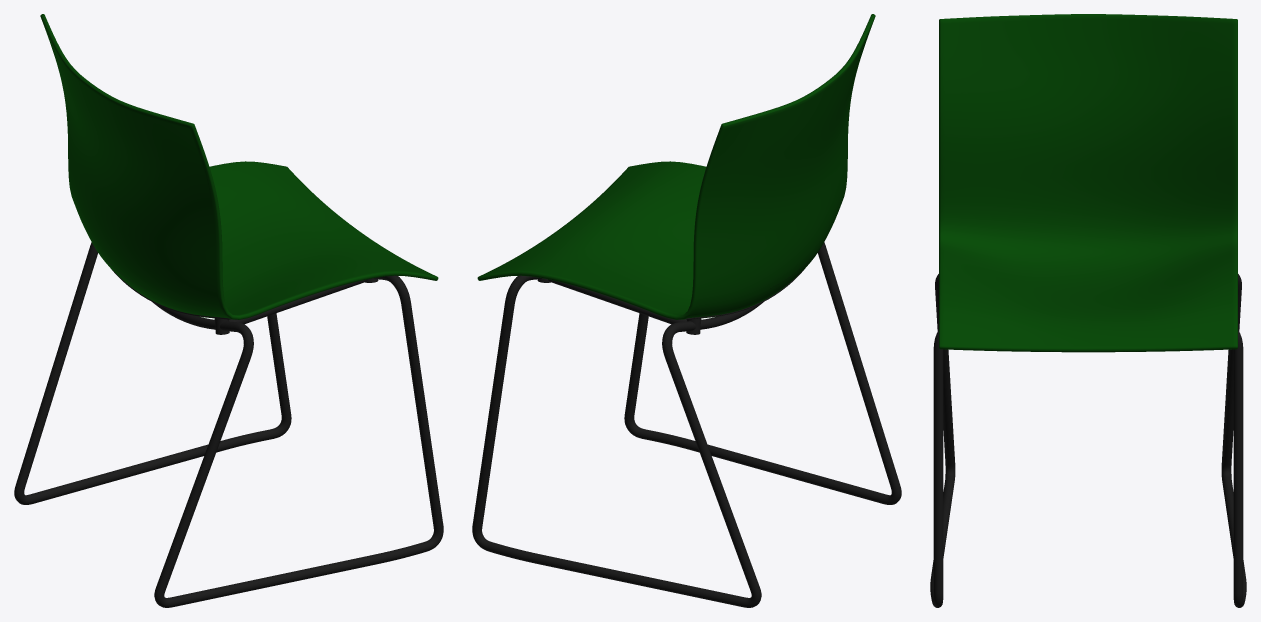
The picture shows the model from 3 angles, left to right: view 1: azimuth 30°, elevation 25°; view 2: azimuth 150°, elevation 25°; view 3: azimuth 270°, elevation 25°; orthographic projection.
Visible parts, largest first — view 1: AM121_008_00; view 2: AM121_008_00; view 3: AM121_008_00.
Boxes of the visible parts, x1,y1,x2,y2 form: AM121_008_00: (14, 14, 443, 607); AM121_008_00: (472, 14, 901, 607); AM121_008_00: (930, 14, 1246, 607).
Bounding box in the file's own units: 21.65 × 35.39 × 21.36.
